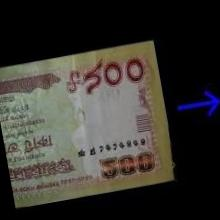200 tk: (0, 39, 176, 208)
